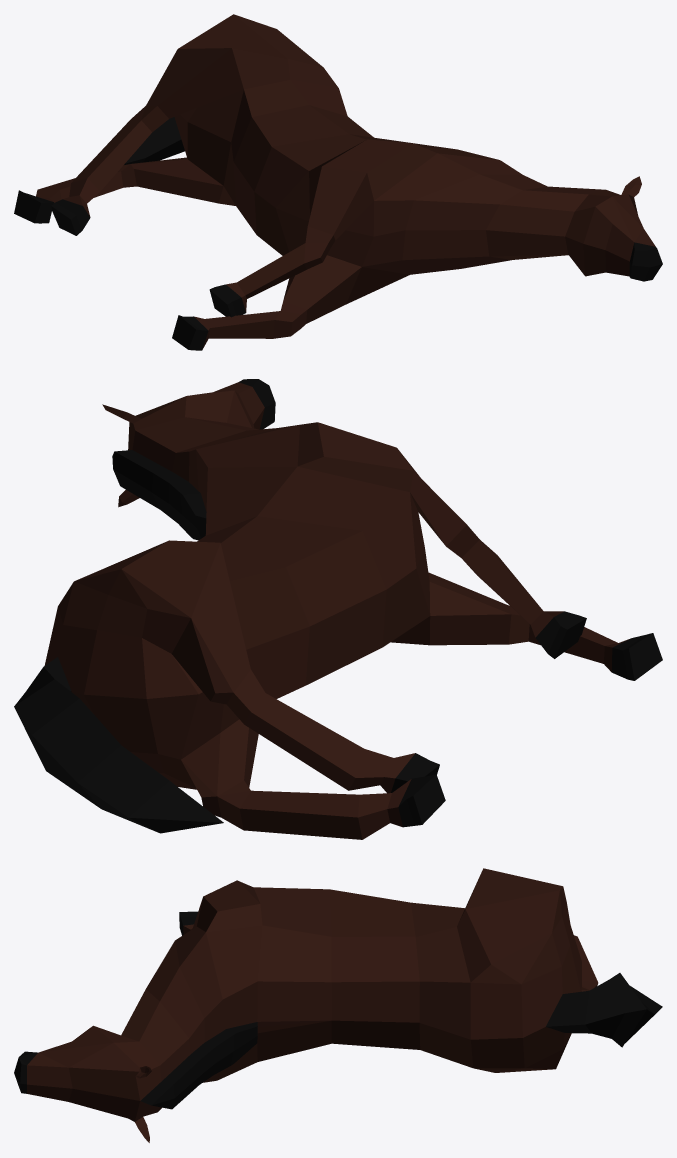
File: Horse_000018.obj
3 renders of one model, top to bottom at view 1: azimuth 30°, elevation 25°; view 2: azimuth 150°, elevation 25°; view 3: azimuth 270°, elevation 25°, orthographic. The views are drawn at different scales.
Parts seen in each view (by area): view 1: Horse_Cylinder; view 2: Horse_Cylinder; view 3: Horse_Cylinder.
Part boxes in pixels (<box>): Horse_Cylinder: <box>14,14,662,350</box>; Horse_Cylinder: <box>14,379,662,839</box>; Horse_Cylinder: <box>14,868,662,1142</box>.
Bounding box in the file's own units: 7.41 × 2.73 × 9.12.
